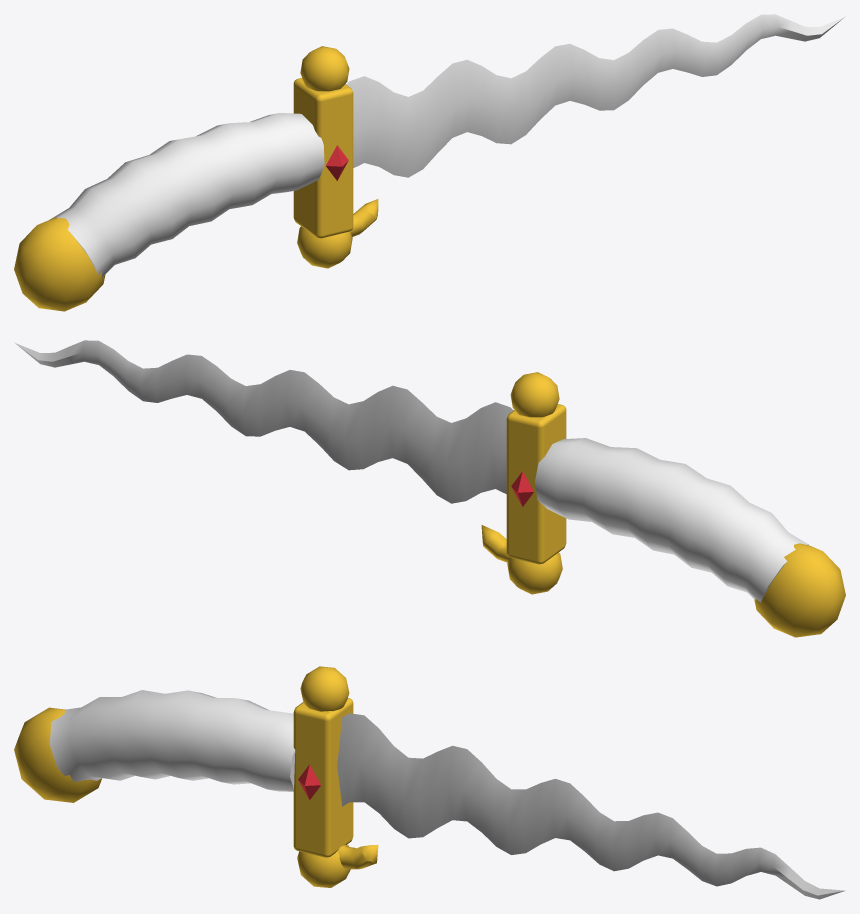
Rendered from knife_dagger.glb.
3 views of the same model, one above another, from view 1: azimuth 30°, elevation 25°; view 2: azimuth 150°, elevation 25°; view 3: azimuth 330°, elevation 25° (orthographic).
Visible parts, largest first — view 1: Blade, Handle, Guard, Pommel; view 2: Blade, Handle, Guard, Pommel; view 3: Blade, Handle, Guard, Pommel.
Part boxes in pixels (x1,y1,x2,y2): Blade: [346, 14, 845, 177]; Handle: [50, 113, 324, 277]; Guard: [293, 46, 378, 268]; Pommel: [14, 217, 105, 311]; Blade: [14, 340, 513, 503]; Handle: [535, 438, 808, 602]; Guard: [481, 372, 566, 594]; Pommel: [754, 543, 845, 637]; Blade: [337, 713, 845, 899]; Handle: [49, 690, 295, 791]; Guard: [293, 666, 378, 887]; Pommel: [14, 707, 101, 802].
Size of the model in its own units: 0.5705 by 0.144 by 0.0548.
